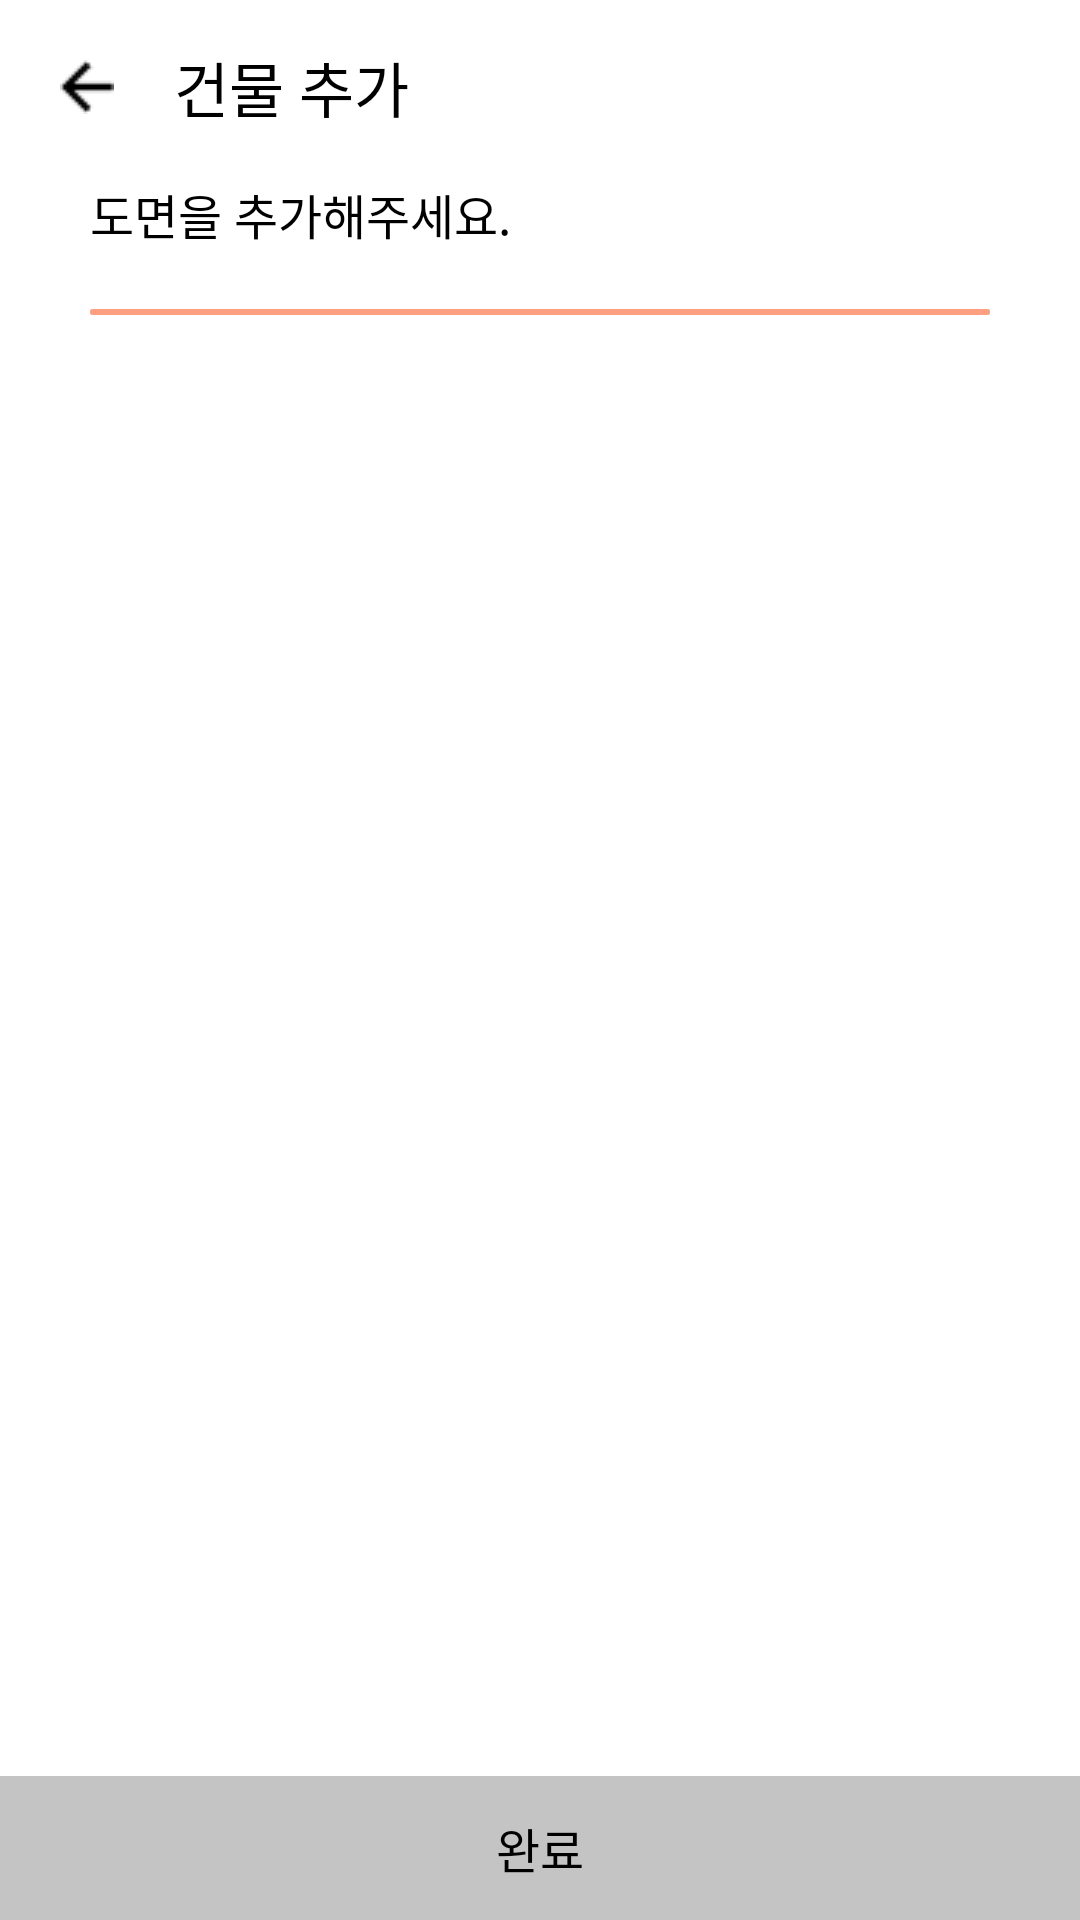

Named icons in this screenshot (1080w x 1920h) and their bounding boxes, (x1, y1, x2, y2):
뒤로가기 버튼: (60, 60, 114, 114)
